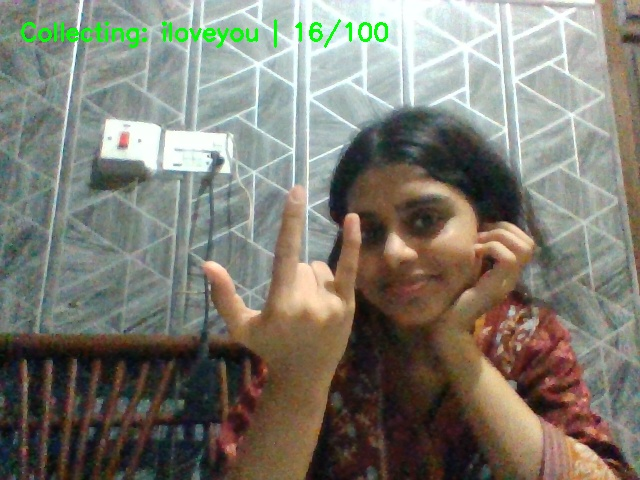iloveyou: (198, 167, 395, 400)
